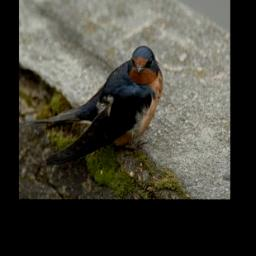Swallow: (19, 43, 164, 165)
